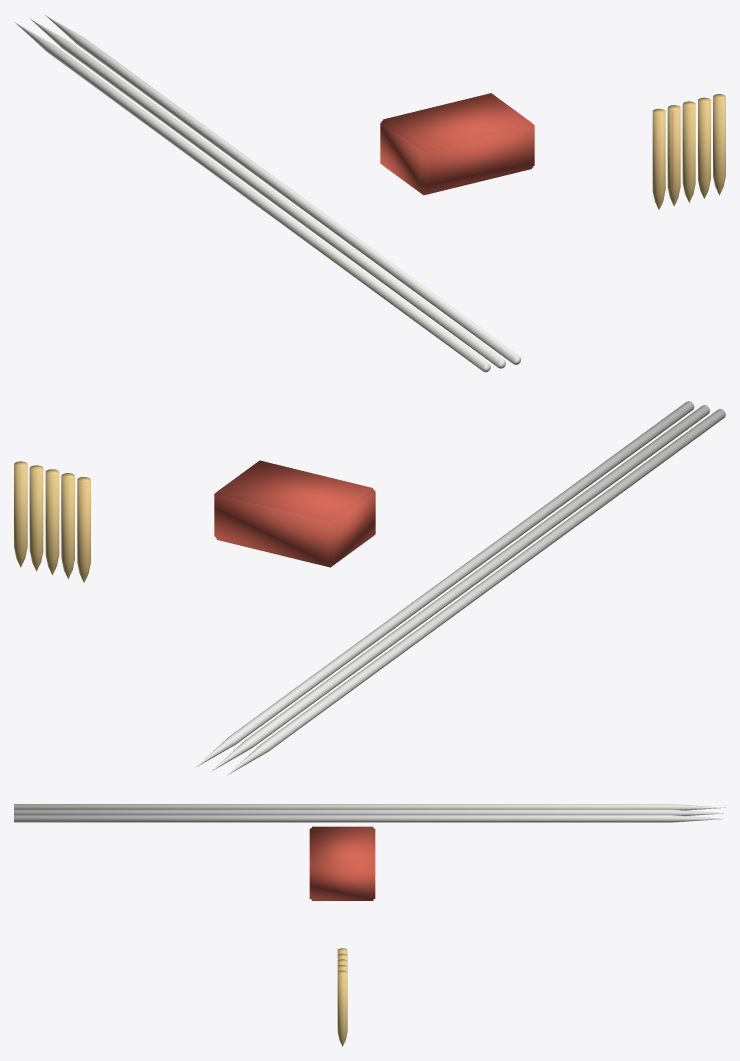
Rendered from Pickup_Ammo.glb.
3 views of the same model, one above another, from view 1: azimuth 30°, elevation 25°; view 2: azimuth 150°, elevation 25°; view 3: azimuth 270°, elevation 25° (orthographic). The views are drawn at different scales.
Parts seen in each view (by area): view 1: Pickup_Ammo_Game; view 2: Pickup_Ammo_Game; view 3: Pickup_Ammo_Game.
Boxes of the visible parts, bbox=[...] form: Pickup_Ammo_Game: bbox=[14, 15, 725, 372]; Pickup_Ammo_Game: bbox=[14, 401, 725, 775]; Pickup_Ammo_Game: bbox=[14, 804, 725, 1046].
Size of the model in its own units: 0.366 by 0.105 by 0.65.
1 material, 1 textured.
